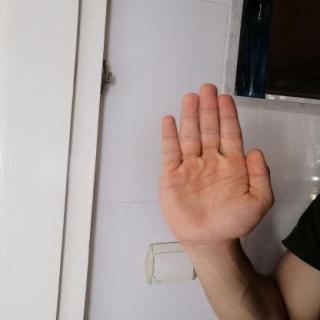SEEN: (146, 77, 283, 251)
